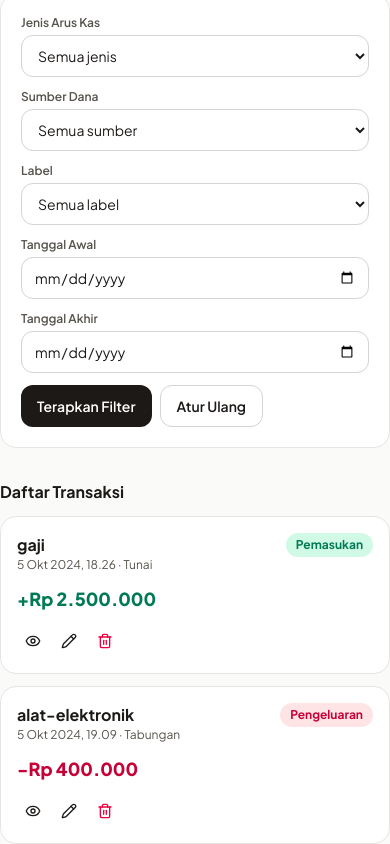
Scenario: HomePage › mengubah transaksi dari tampilan kartu
(page scrolled)
Click the button named "Ubah transaksi 3" at [69, 811], box [53, 795, 85, 827]
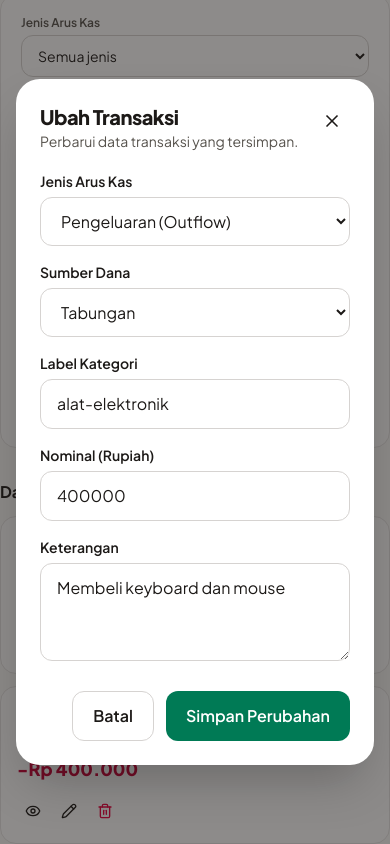
expect the heading "Ubah Transaksi" is shown: met, box [40, 104, 179, 129]
expect the field labelled "Label Kategori" holds "alat-elektronik": met, box [40, 379, 350, 429]
